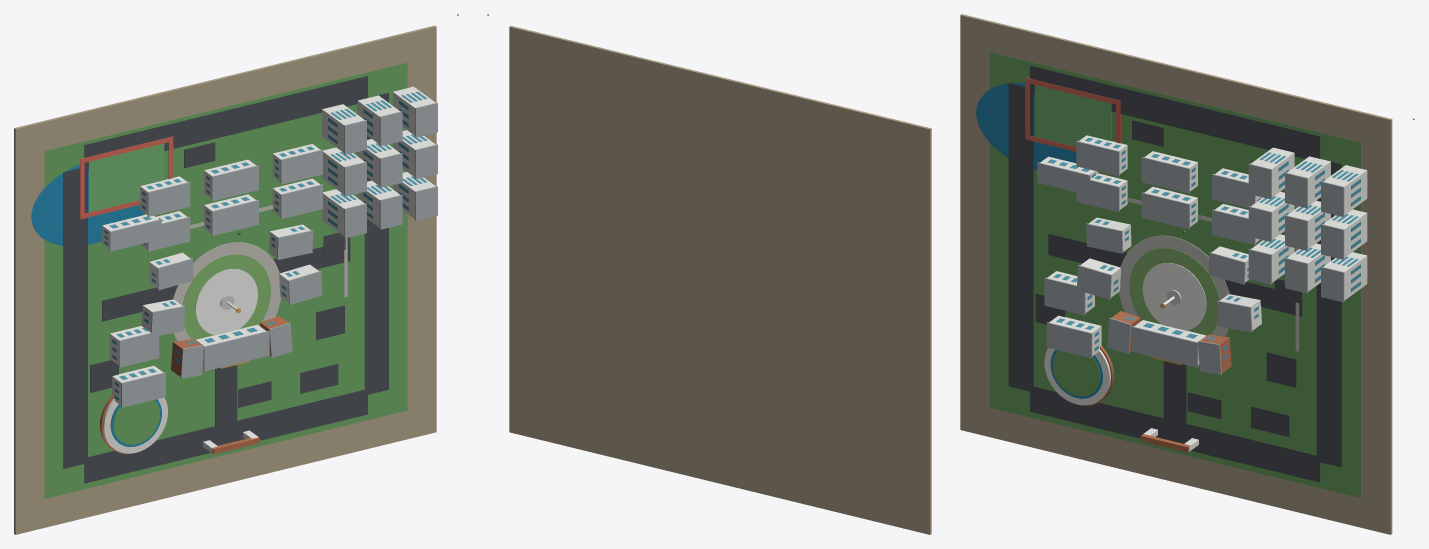
File: chanakya_university_3d_campus.glb
The picture shows the model from 3 angles, left to right: view 1: azimuth 30°, elevation 25°; view 2: azimuth 150°, elevation 25°; view 3: azimuth 330°, elevation 25°; orthographic projection. The views are drawn at different scales.
Parts seen in each view (by area): view 1: campus_lawn, terrain, west_boulevard, south_boulevard, north_boulevard, east_boulevard, sports_green, plaza_ring, lake, plaza_lawn, central_crossroad, plaza_outer (+43 smaller); view 2: terrain; view 3: terrain, campus_lawn, west_boulevard, south_boulevard, north_boulevard, east_boulevard, sports_green, plaza_ring, plaza_lawn, lake, central_crossroad, plaza_outer (+42 smaller).
Part boxes in pixels (<box>): campus_lawn: <box>44,62,407,498</box>; terrain: <box>14,25,436,534</box>; west_boulevard: <box>63,168,87,468</box>; south_boulevard: <box>84,389,367,483</box>; north_boulevard: <box>84,76,367,170</box>; east_boulevard: <box>364,93,388,394</box>; sports_green: <box>89,143,164,212</box>; plaza_ring: <box>195,269,257,335</box>; lake: <box>31,164,144,245</box>; plaza_lawn: <box>182,254,270,340</box>; central_crossroad: <box>102,246,350,321</box>; plaza_outer: <box>173,242,280,341</box>; terrain: <box>509,26,931,534</box>; terrain: <box>960,14,1392,534</box>; campus_lawn: <box>989,52,1361,497</box>; west_boulevard: <box>1008,83,1033,391</box>; south_boulevard: <box>1030,385,1320,482</box>; north_boulevard: <box>1030,65,1320,158</box>; east_boulevard: <box>1316,159,1341,467</box>; sports_green: <box>1034,85,1111,146</box>; plaza_ring: <box>1142,263,1206,330</box>; plaza_lawn: <box>1129,248,1219,335</box>; lake: <box>976,83,1076,169</box>; central_crossroad: <box>1048,233,1302,316</box>; plaza_outer: <box>1119,235,1229,336</box>.
Size of the model in its own units: 200 by 178 by 19.76.
